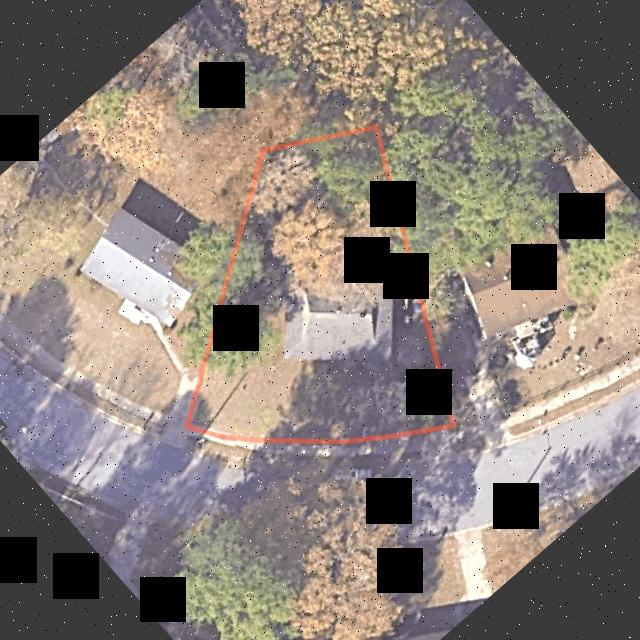Extra Lawn: (203, 427, 459, 457)
House: (281, 265, 393, 361)
